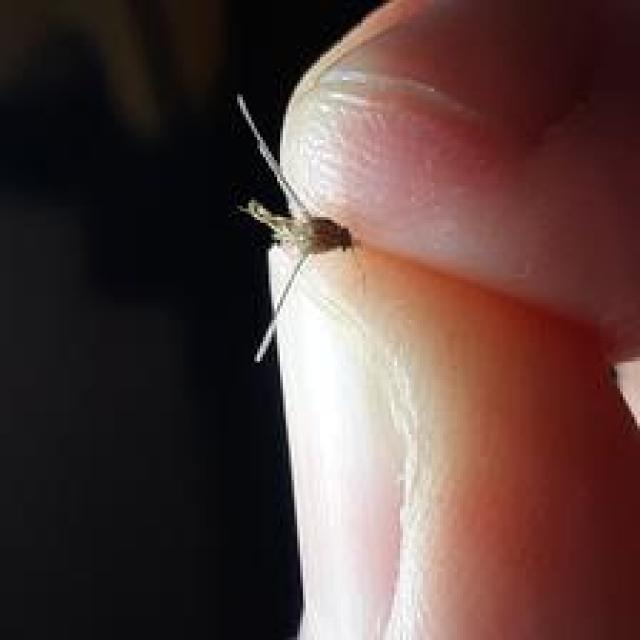Culex: (232, 93, 354, 364)
